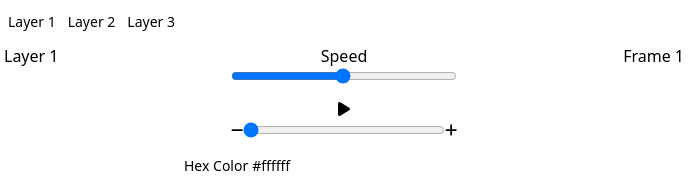
Scenario: layer selection › should change the layer when a layer 2 is clicked
Click the list item with test id "display-layer-frame-2" at point(92, 22), box [64,8,119,36]
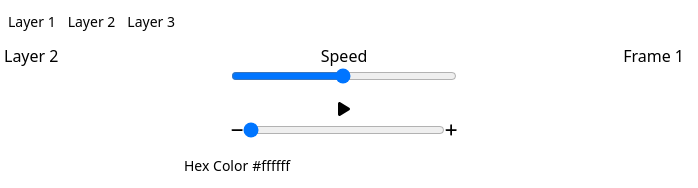
Expected: the text with test id "display-layer" reads "Layer 2", [4,45,58,67]
